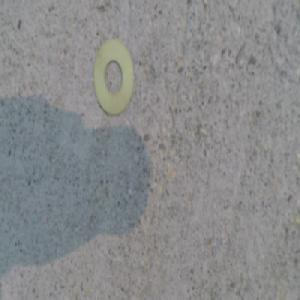Washer: (89, 41, 132, 119)
